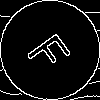F: (25, 25, 80, 77)
